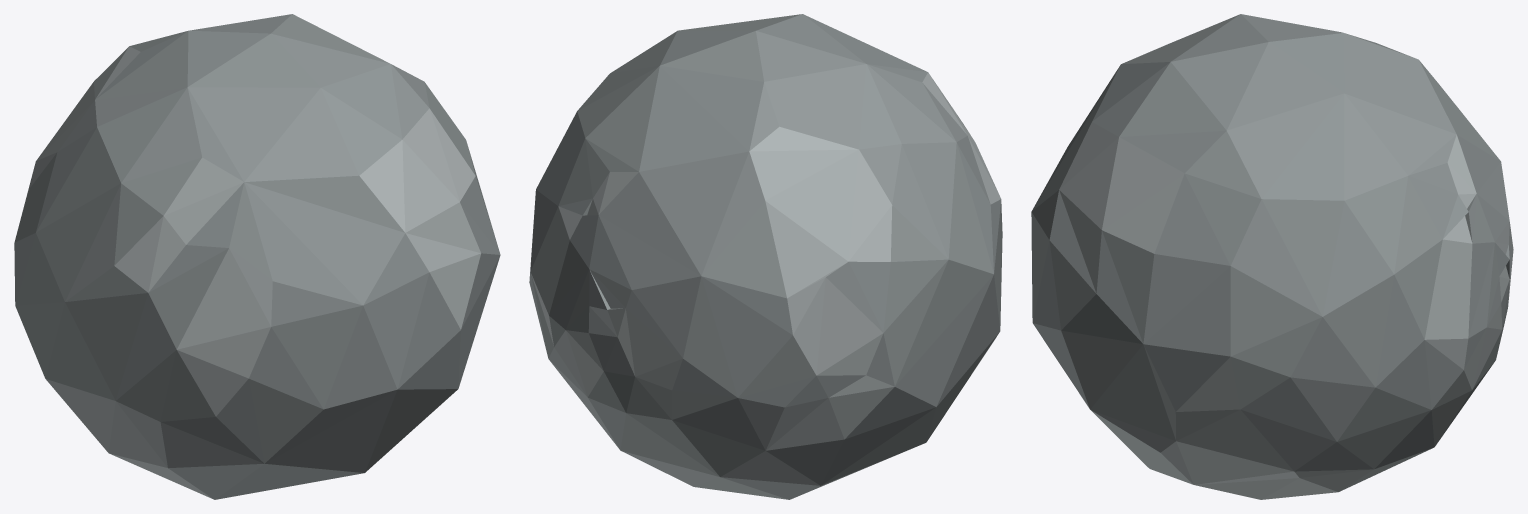
Rendered from moon.glb.
The picture shows the model from 3 angles, left to right: view 1: azimuth 30°, elevation 25°; view 2: azimuth 150°, elevation 25°; view 3: azimuth 270°, elevation 25°; orthographic projection.
Visible parts, largest first — view 1: mercury; view 2: mercury; view 3: mercury.
Part boxes in pixels (x1,y1,x2,y2): mercury: (14,14,500,499); mercury: (529,14,1002,499); mercury: (1031,14,1513,499).
Bounding box in the file's own units: 1.13 × 1.13 × 1.11.
Materials: 1 (1 with a texture image).
